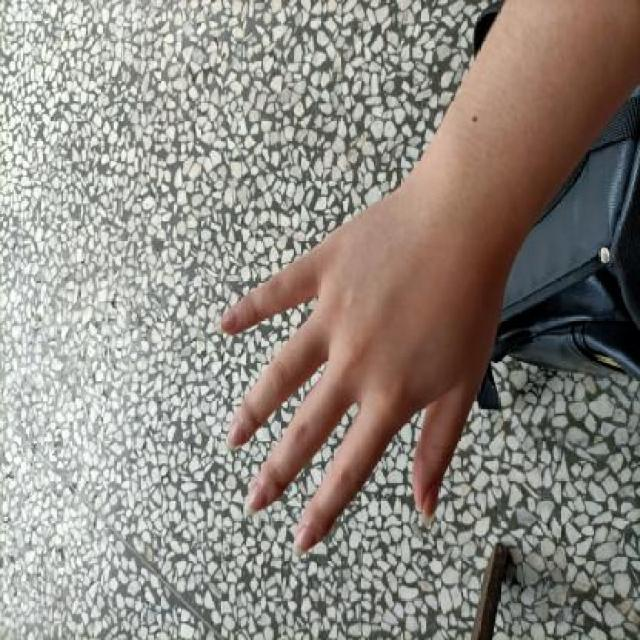bare_hand: (210, 166, 516, 572)
